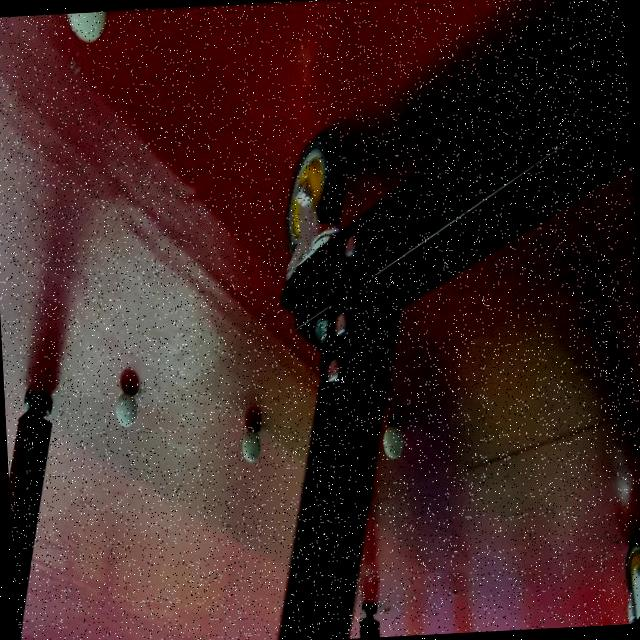ping-pong-ball: (65, 11, 109, 48), (114, 390, 138, 430), (380, 422, 404, 461), (240, 426, 262, 466)
